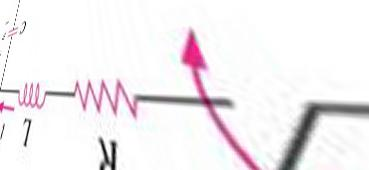inductor: (15, 81, 56, 109)
